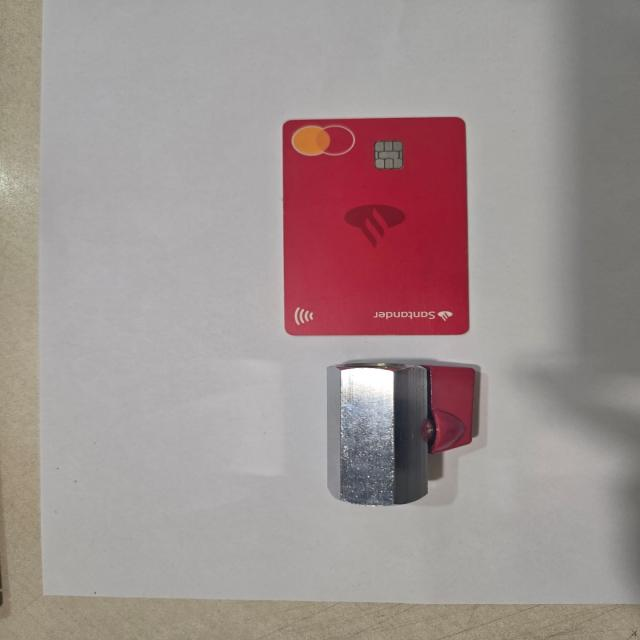cartao: (284, 118, 467, 334)
rosca_interna: (328, 358, 472, 506)
